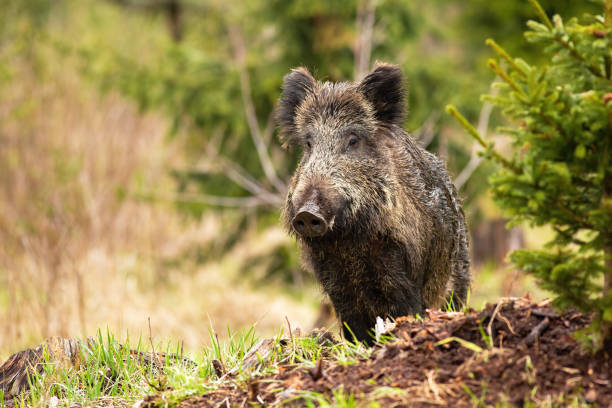pig: (270, 62, 468, 318)
